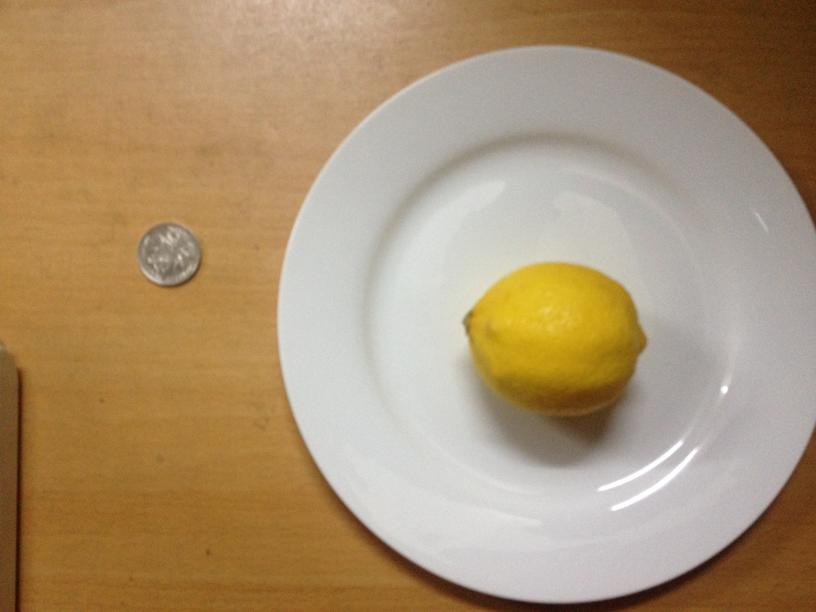coin: (137, 220, 198, 285)
lemon: (462, 257, 642, 415)
